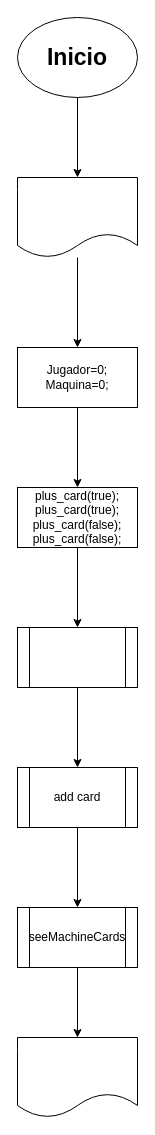
Image size: 155x1135. Some labels were removed from this diagram. The shapes that lost their labels are listed below. From the top down, each one's centre as x and y in pixels, then its label:
[77,217]: Bienvenido Jugador
[77,657]: mostrar inicioJuego
[77,1077]: "Que tenga buen dia sr/sra"
